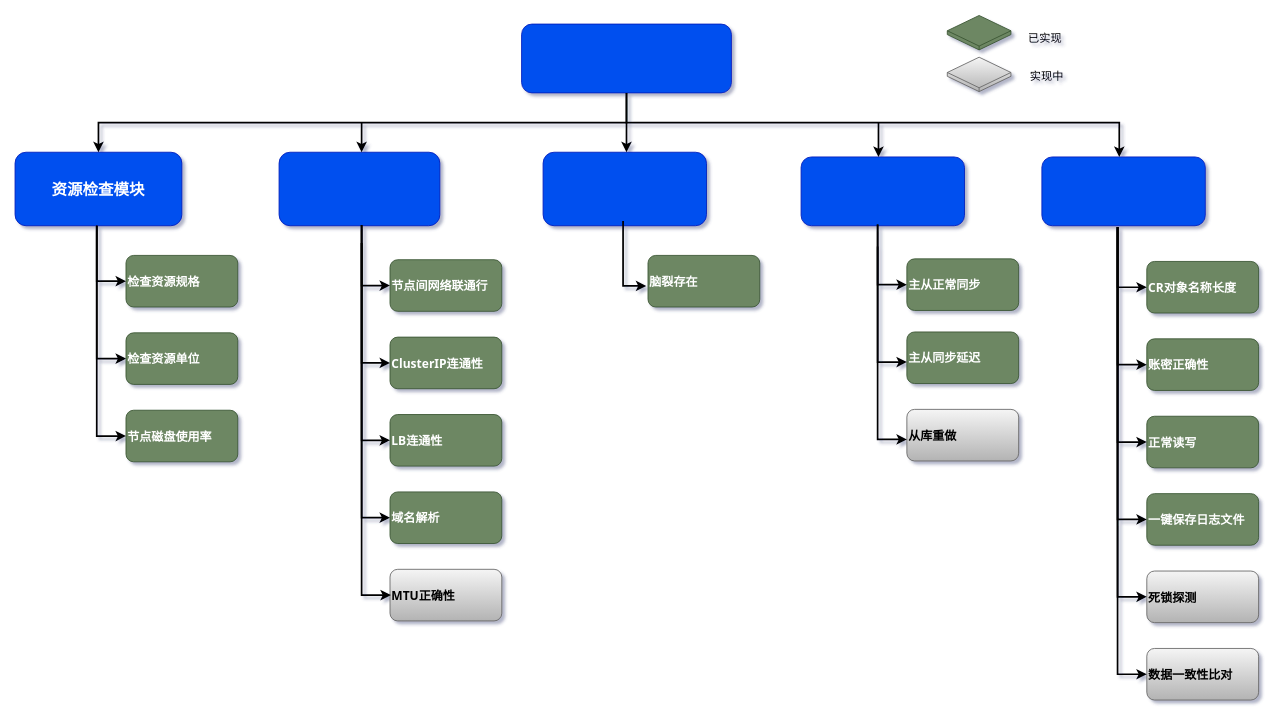
Image size: 1279x720. Some labels were removed from this diagram. The centre of each missing label's shape, as x and y in pixels:
"MariaDB故障诊断功能" belongs at pixel 626 58.
"主从检查模块" belongs at pixel 882 191.
"多主检查模块" belongs at pixel 624 188.
"网络检查模块" belongs at pixel 359 188.
"通用检查模块" belongs at pixel 1123 191.
